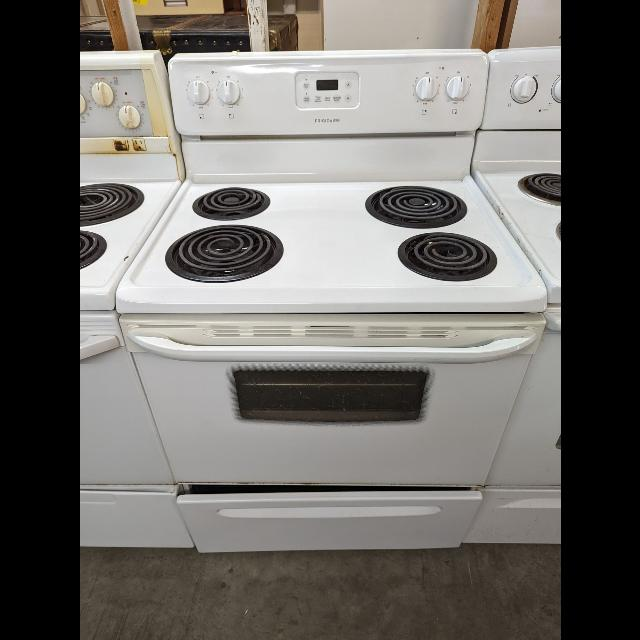Oven: (116, 304, 534, 562)
